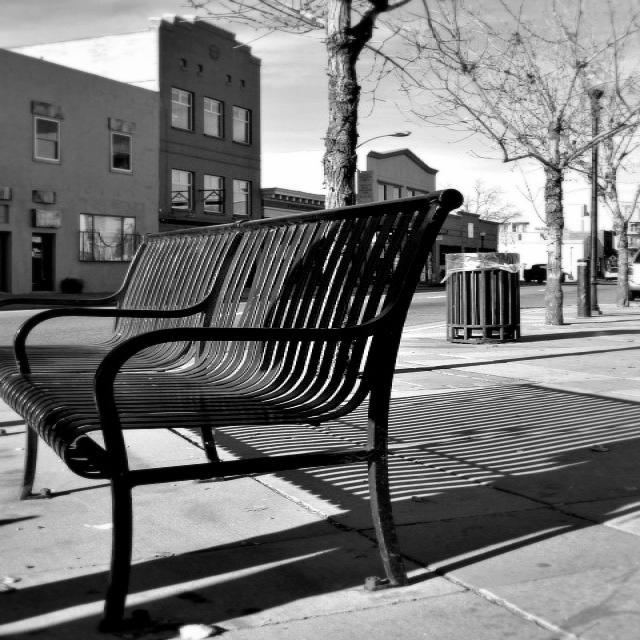Vehicle: (524, 264, 566, 284), (627, 263, 640, 300), (604, 267, 618, 281)
